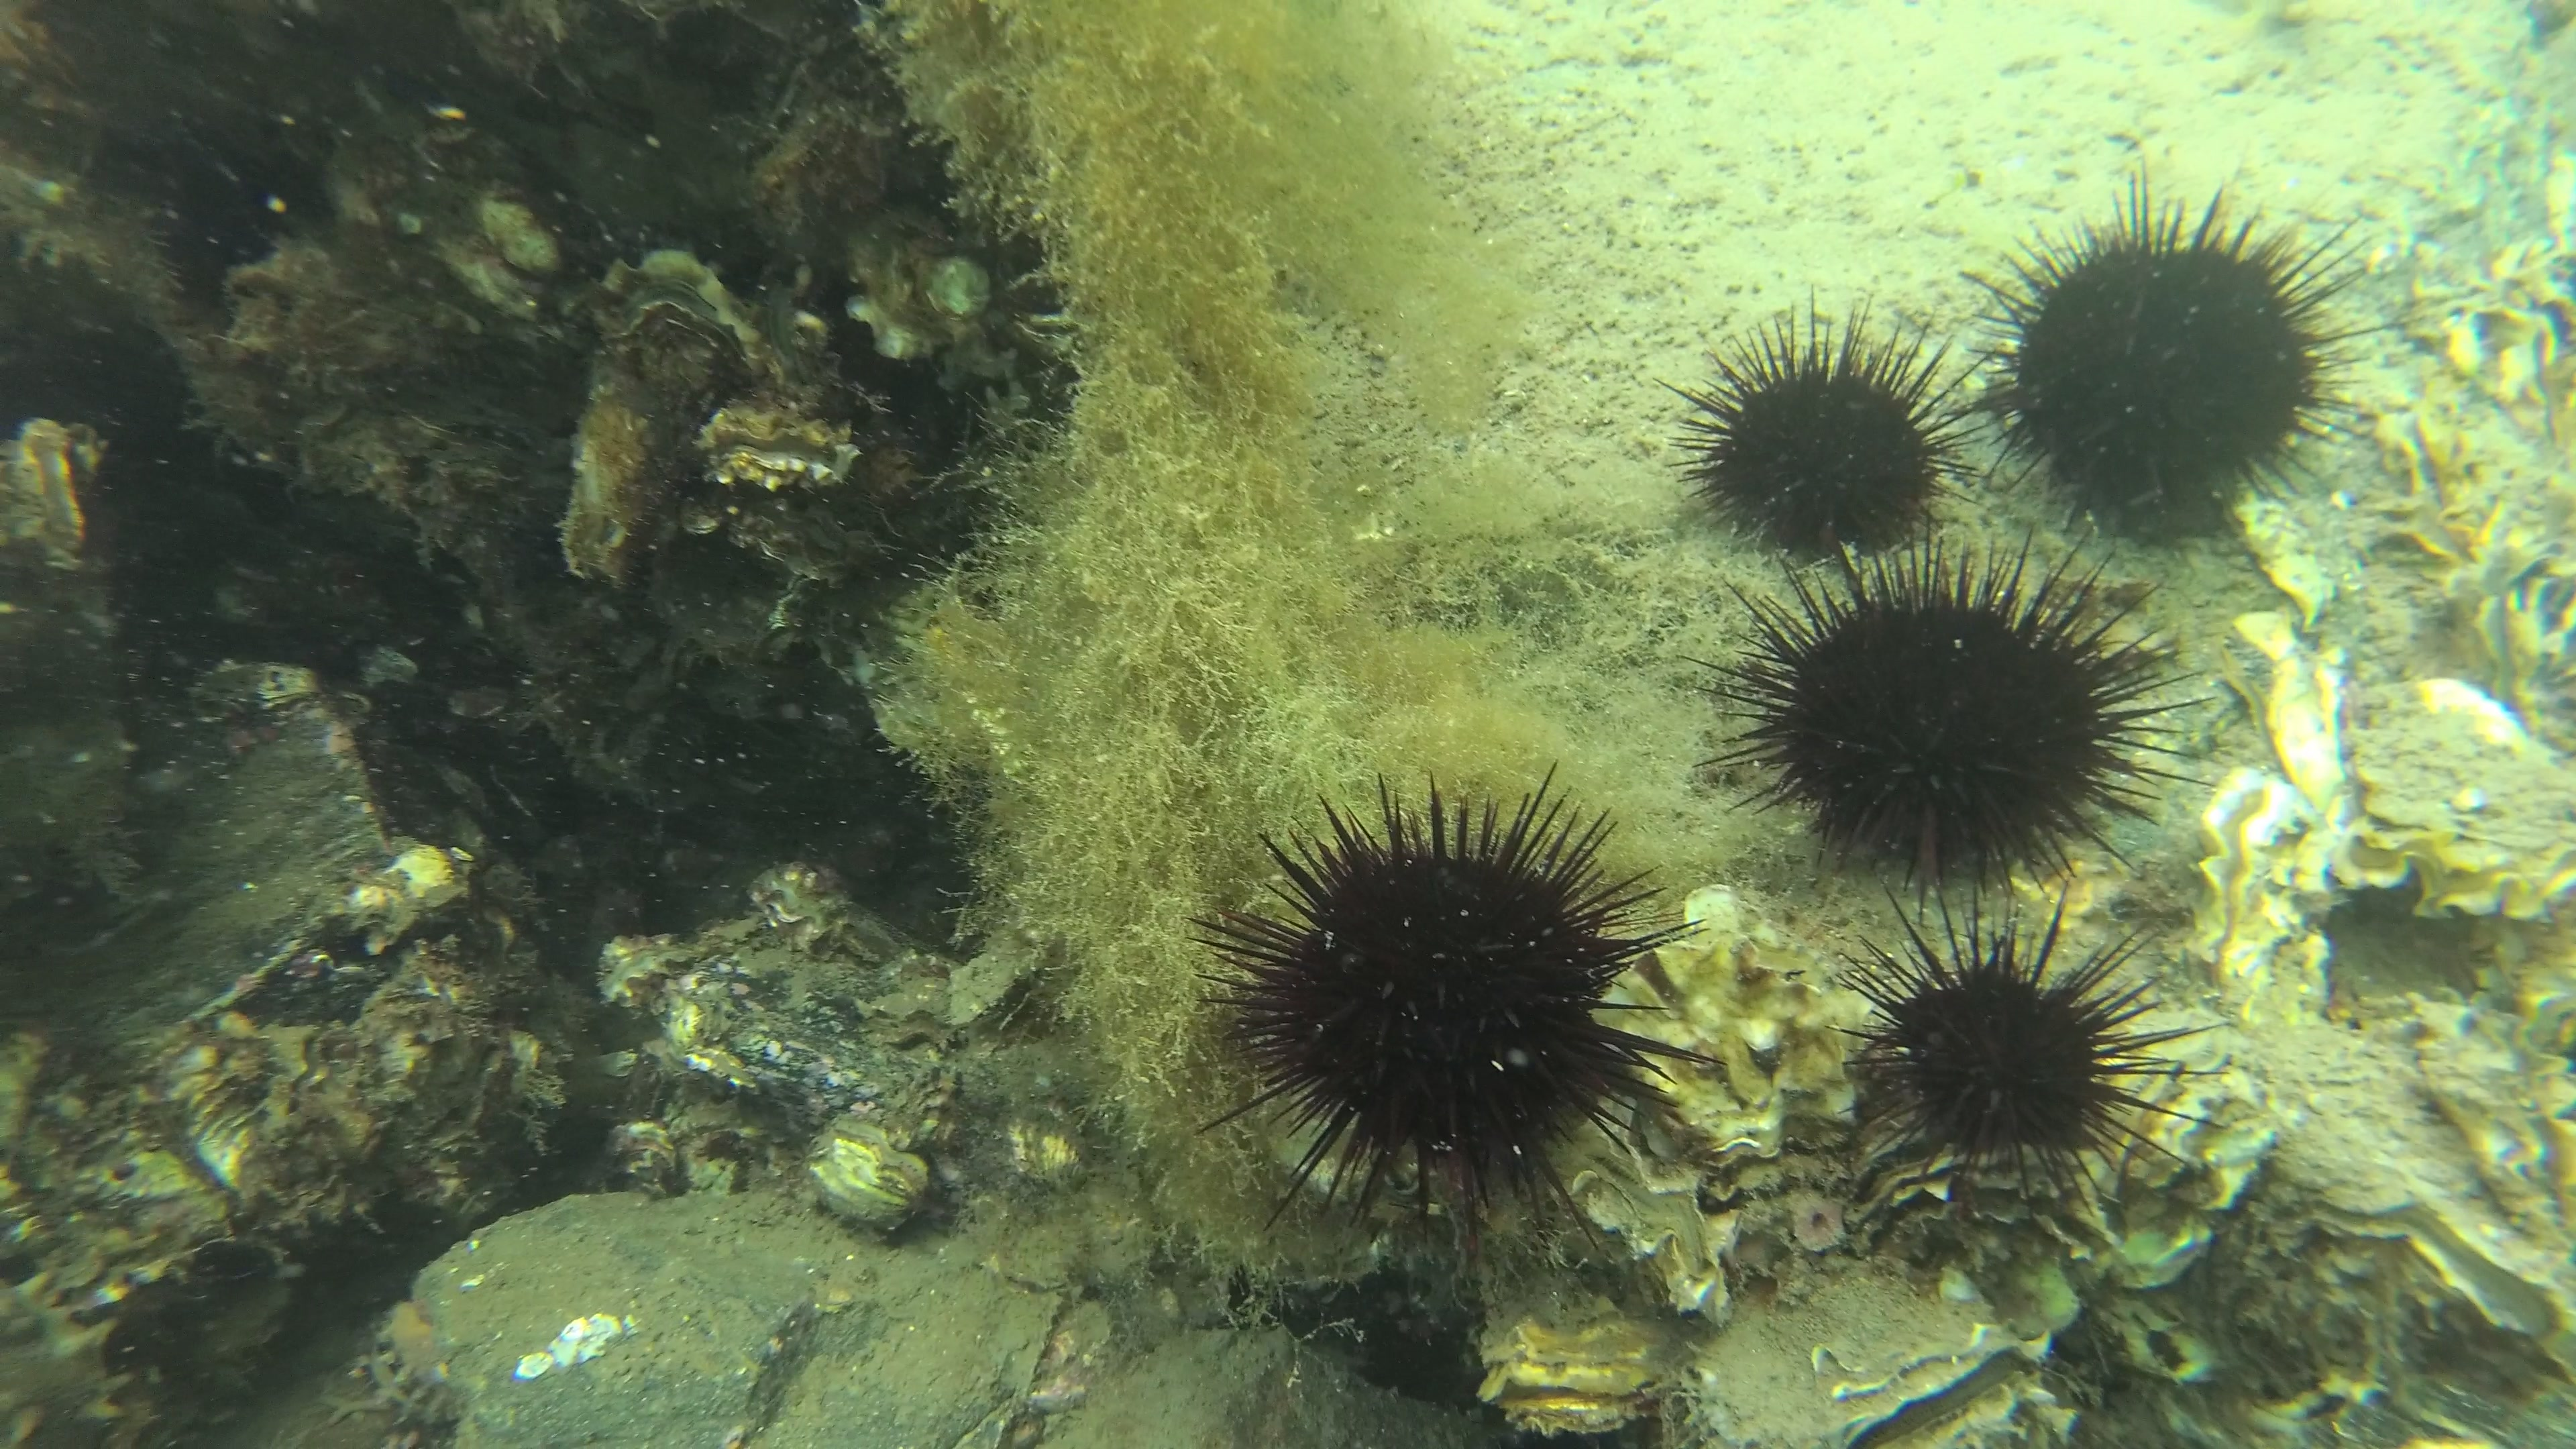echinus: (1201, 773, 1706, 1247), (1706, 543, 2201, 872), (1990, 186, 2381, 534), (1819, 886, 2204, 1230), (1684, 306, 1978, 550)
